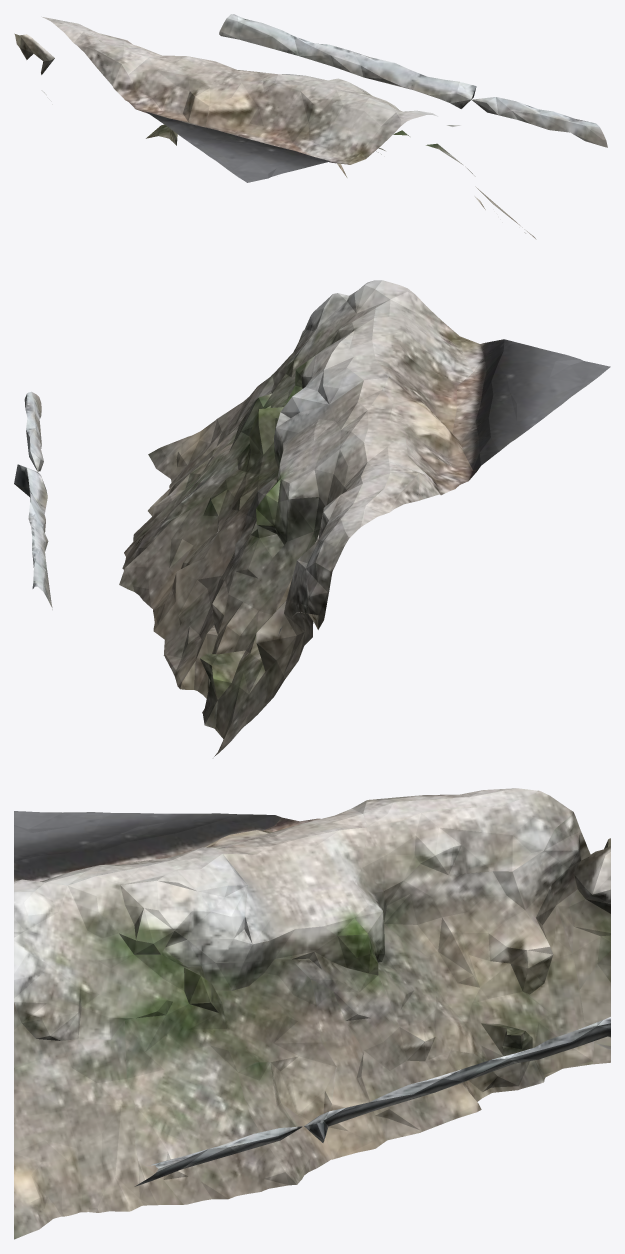
The picture shows the model from 3 angles, top to bottom: view 1: azimuth 30°, elevation 25°; view 2: azimuth 150°, elevation 25°; view 3: azimuth 270°, elevation 25°; orthographic projection. The views are drawn at different scales.
Size of the model in its own units: 5.9 by 2.54 by 5.9.
2 materials, 2 textured.
